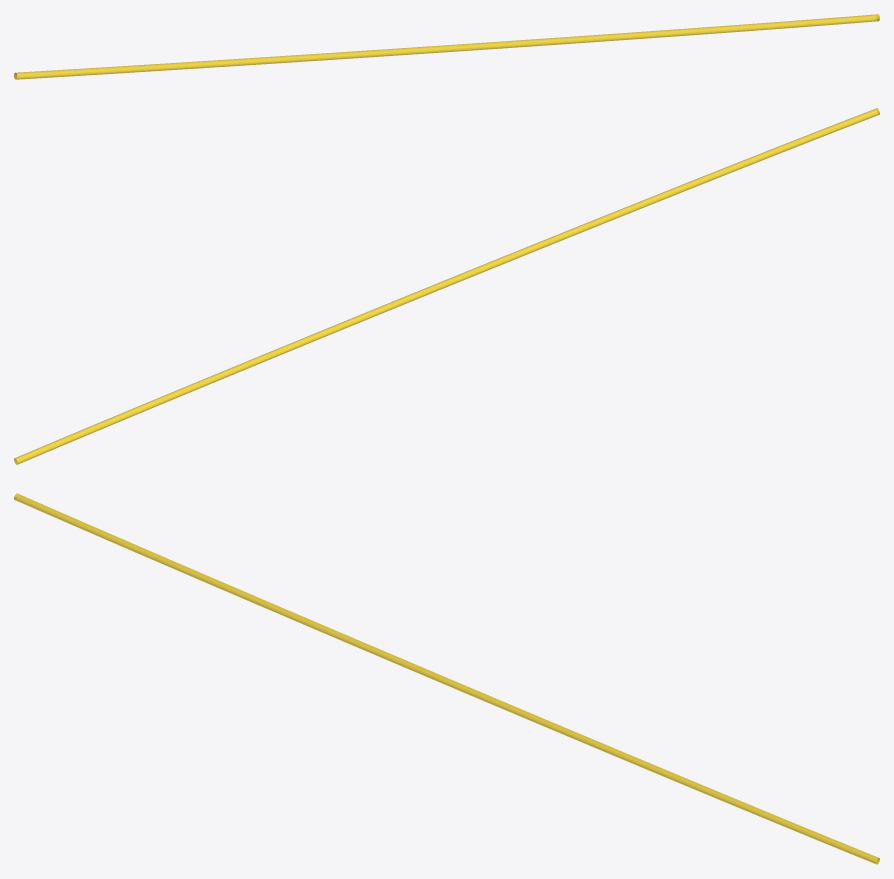
File: Event_27938768_track_22.fbx
3 renders of one model, top to bottom at view 1: azimuth 30°, elevation 25°; view 2: azimuth 210°, elevation 25°; view 3: azimuth 330°, elevation 25°, orthographic.
Visible parts, largest first — view 1: Model; view 2: Model; view 3: Model.
Part boxes in pixels (x1=…): Model: x1=14, y1=14, x2=879, y2=79; Model: x1=14, y1=108, x2=879, y2=464; Model: x1=14, y1=493, x2=879, y2=864.
Bounding box in the file's own units: 5.55 × 0.9429 × 0.1168.
